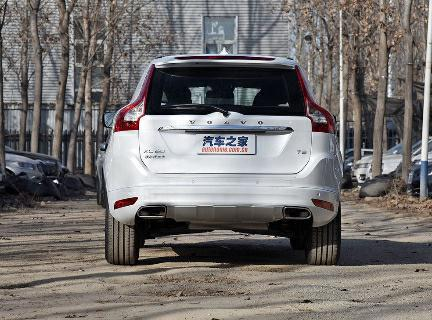沃尔沃-XC60: (95, 45, 349, 274)
